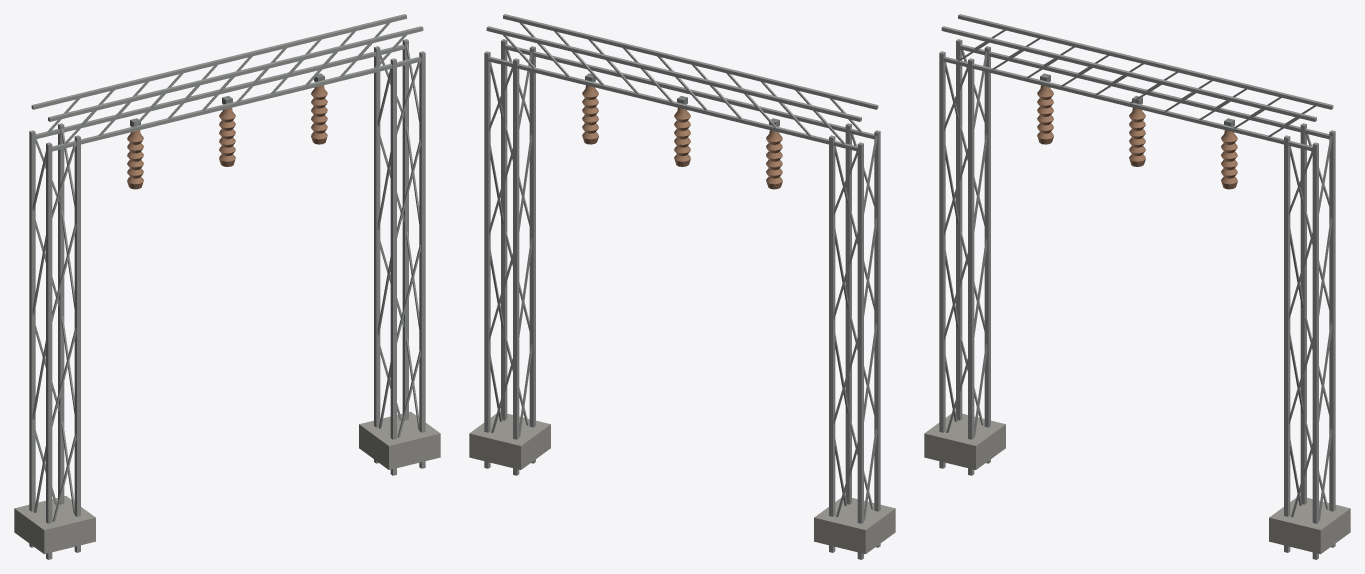
File: energy.substation.gantry.glb
The picture shows the model from 3 angles, left to right: view 1: azimuth 30°, elevation 25°; view 2: azimuth 150°, elevation 25°; view 3: azimuth 330°, elevation 25°; orthographic projection.
Parts seen in each view (by area): view 1: main__galv_999, main__concrete_a99, main__glaze_a76; view 2: main__galv_999, main__concrete_a99, main__glaze_a76; view 3: main__galv_999, main__concrete_a99, main__glaze_a76.
Boxes of the visible parts, left/top/right/bottom form: main__galv_999: left=29, top=14, right=425, bottom=559; main__concrete_a99: left=14, top=411, right=440, bottom=554; main__glaze_a76: left=127, top=85, right=327, bottom=189; main__galv_999: left=484, top=14, right=880, bottom=559; main__concrete_a99: left=469, top=413, right=895, bottom=554; main__glaze_a76: left=582, top=85, right=782, bottom=189; main__galv_999: left=939, top=14, right=1335, bottom=559; main__concrete_a99: left=924, top=413, right=1350, bottom=554; main__glaze_a76: left=1037, top=85, right=1237, bottom=189.
Bounding box in the file's own units: 6.9 × 7.33 × 0.9.
